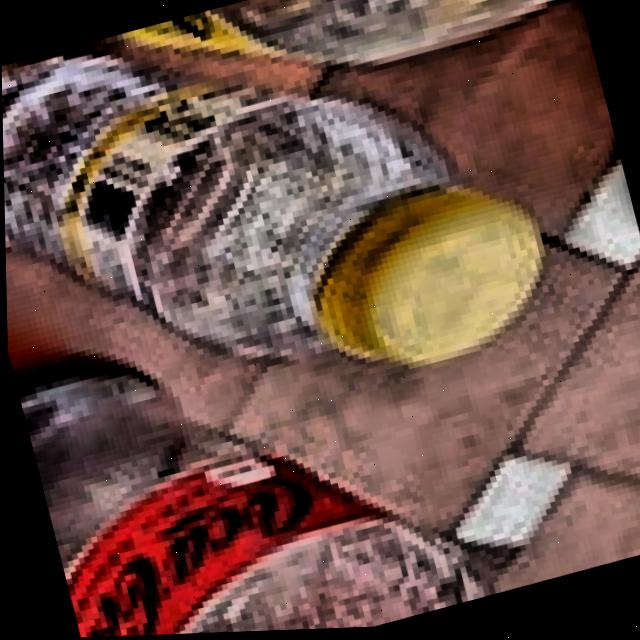plastic: (0, 0, 571, 480), (8, 215, 640, 640)
